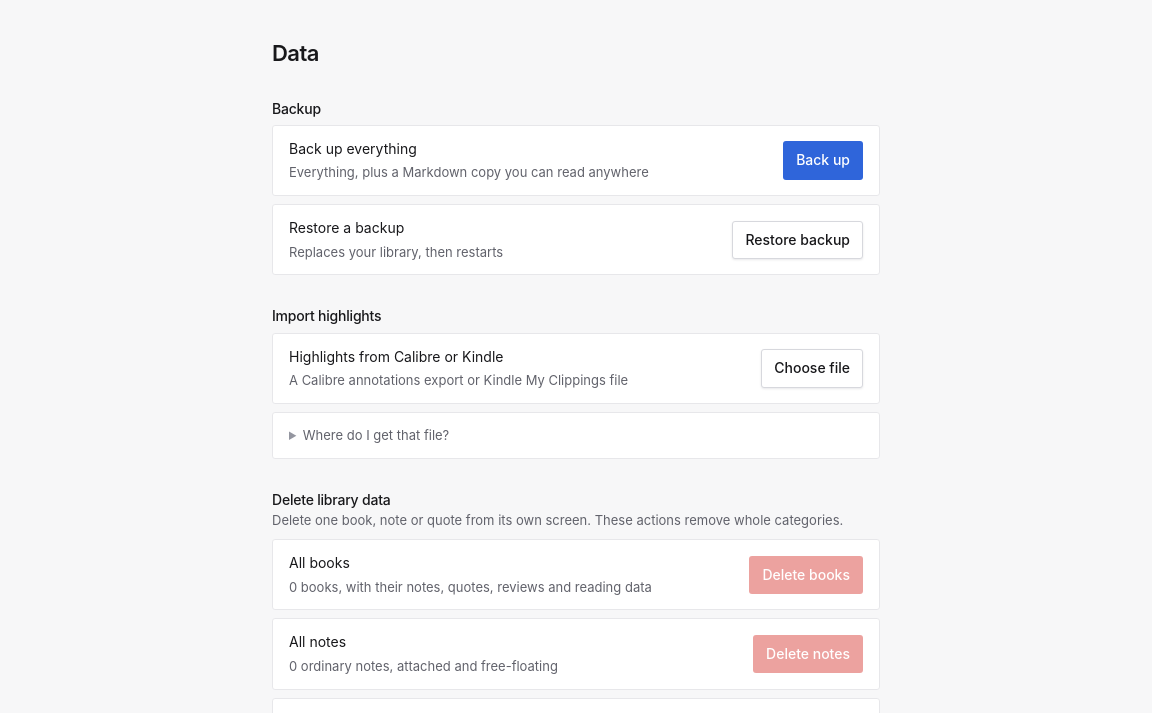
Scenario: the Data screen › asks before restoring, since it replaces the whole library
This screenshot has width=1152, height=713.
Step 1. Click the button "Restore backup" → (798, 240), box [732,221,863,259]
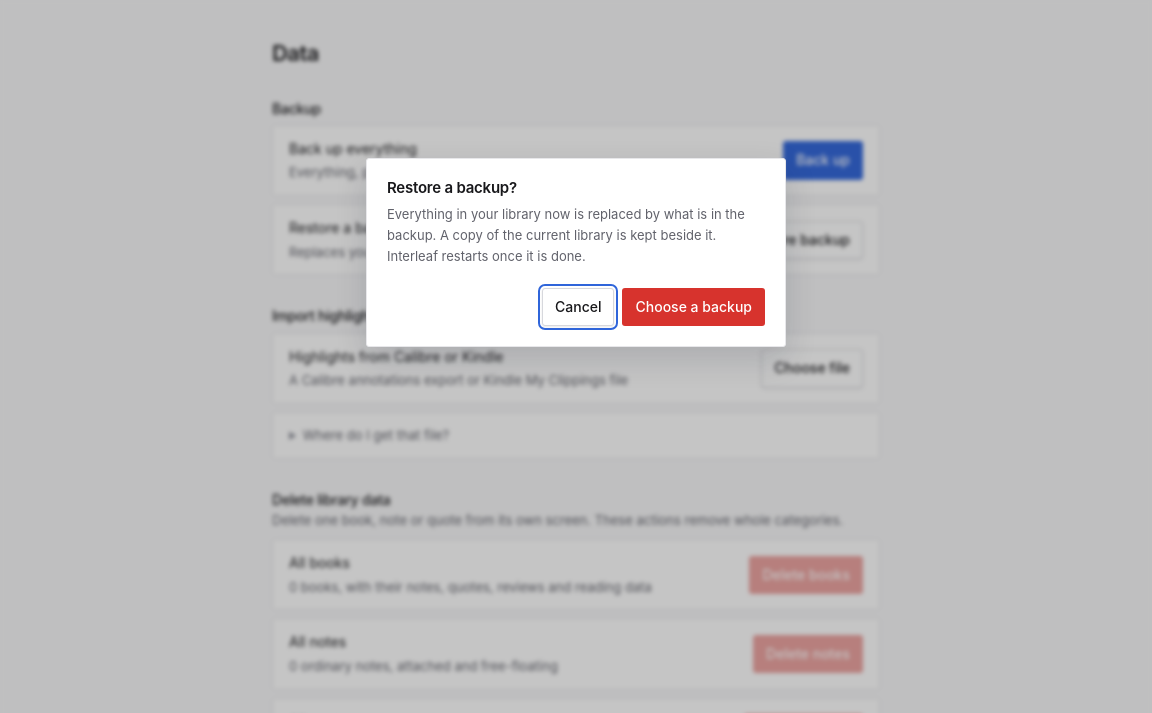
Expected: the heading "Restore a backup?" is shown, [387,178,517,197]
